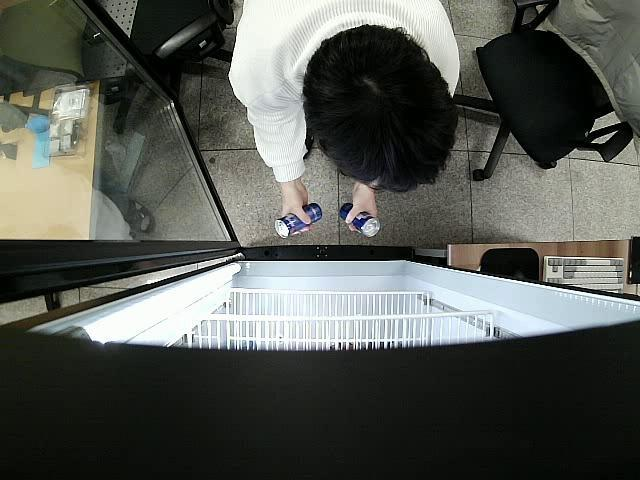16_hot6: (274, 203, 320, 237), (340, 204, 380, 238)
